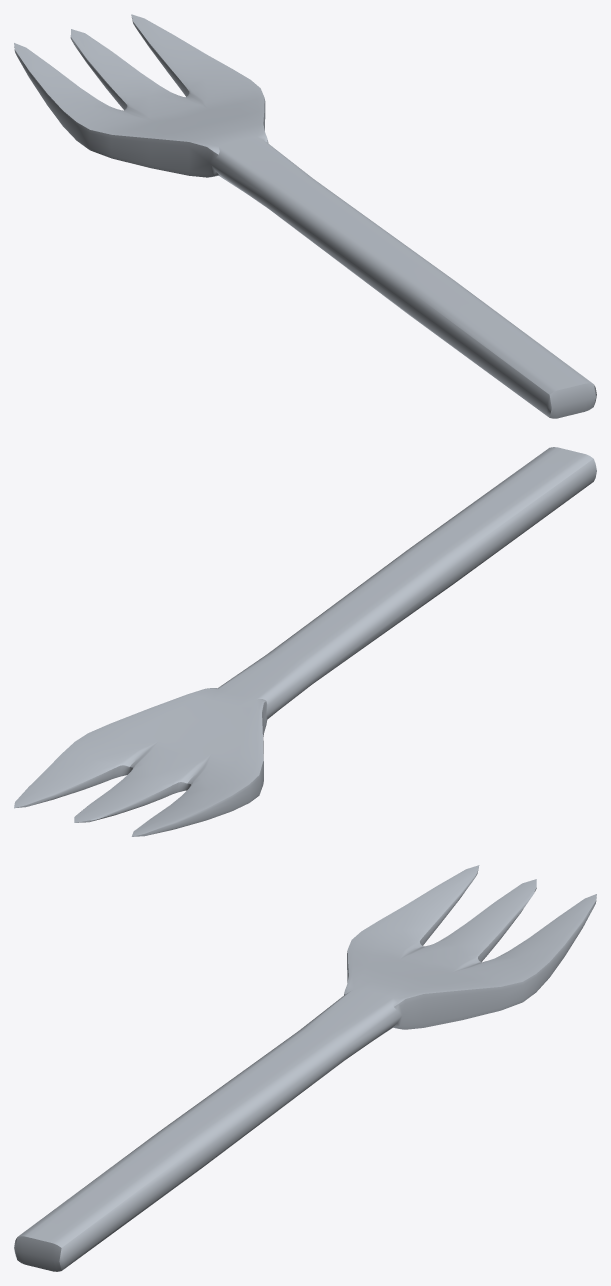
Rendered from DinnerFork_70s.fbx.
3 views of the same model, one above another, from view 1: azimuth 30°, elevation 25°; view 2: azimuth 150°, elevation 25°; view 3: azimuth 330°, elevation 25° (orthographic).
Visible parts, largest first — view 1: P_Fork_70s_1; view 2: P_Fork_70s_1; view 3: P_Fork_70s_1.
Part boxes in pixels (x1=…): P_Fork_70s_1: x1=14, y1=14, x2=596, y2=418; P_Fork_70s_1: x1=14, y1=447, x2=596, y2=836; P_Fork_70s_1: x1=14, y1=865, x2=596, y2=1271.
Bounding box in the file's own units: 0.3321 × 0.0672 × 1.64.
